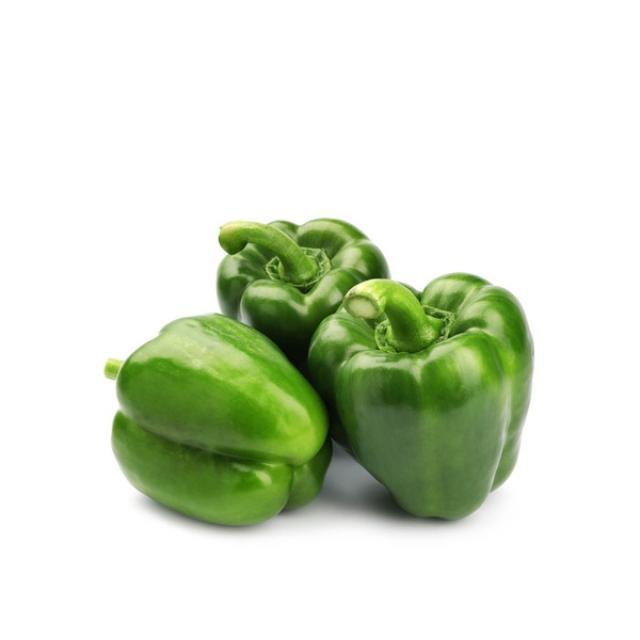Capsicum: (308, 274, 534, 518), (99, 306, 331, 530), (210, 216, 384, 354)
